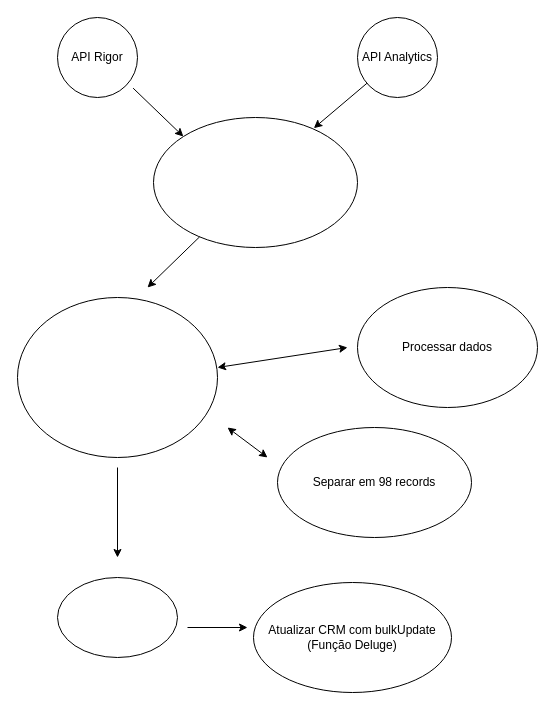
This 555x710 diagram has some shape labels left out. Each missing label, with the box of its shape:
Enviar para CRM: (56, 576, 178, 658)
Fazer join das duas tabelas: (152, 116, 358, 248)
Importar dados: (16, 296, 218, 458)
